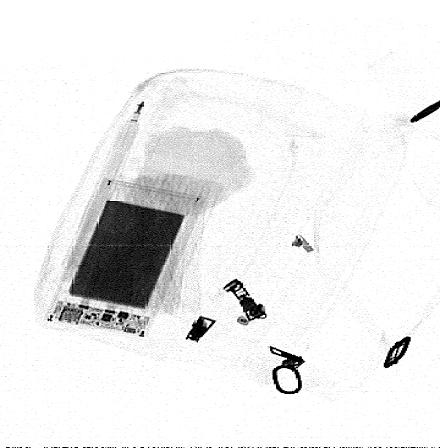Powerbank: (42, 178, 206, 340)
